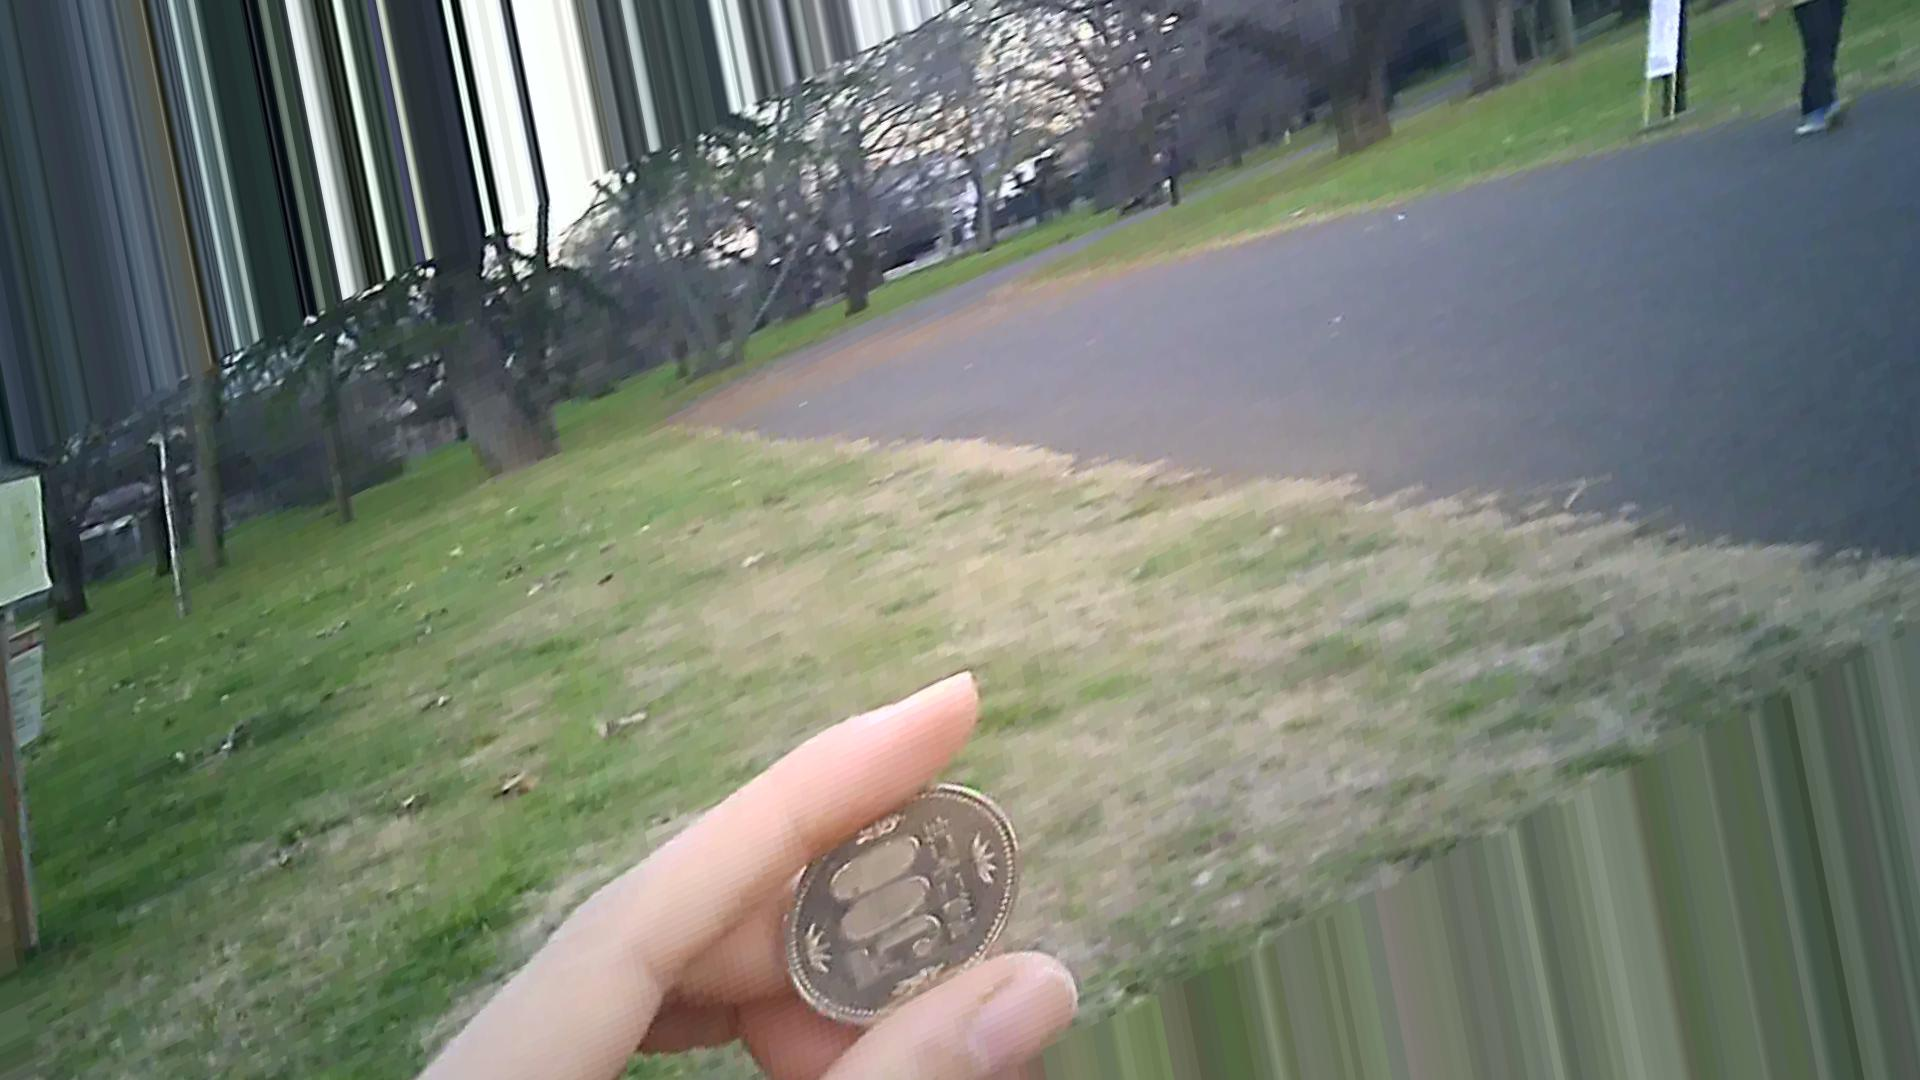500 Yen: (781, 785, 1029, 1021)
